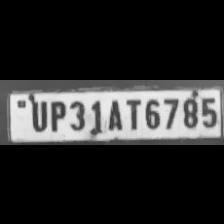1: (86, 96, 104, 132)
3: (66, 97, 86, 131)
5: (199, 94, 219, 128)
6: (140, 96, 160, 128)
7: (160, 95, 178, 129)
8: (179, 95, 197, 129)
A: (103, 96, 123, 130)
P: (46, 97, 66, 131)
T: (122, 96, 140, 130)
U: (26, 97, 48, 131)
